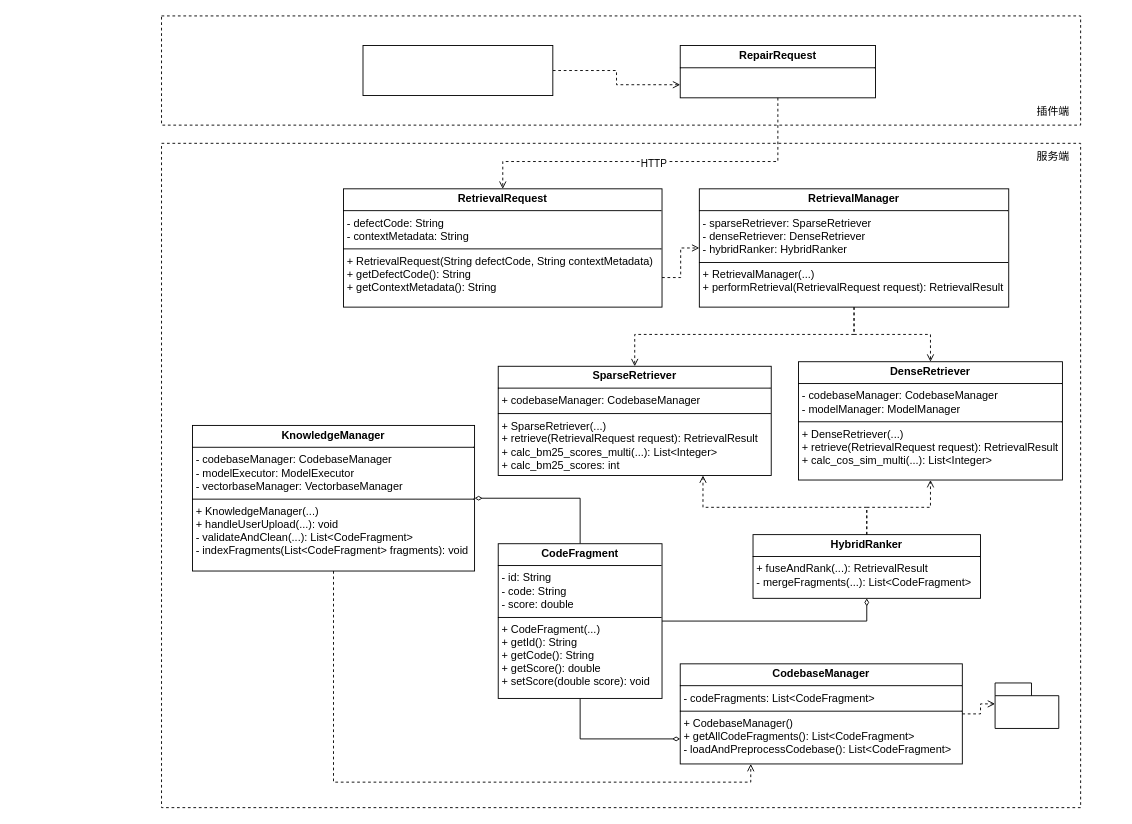
Image size: 1132x824. Some labels were removed from this diagram. Each missing label, with the centre of its shape:
CodeRepairInterface: the point at 457,70
utils: the point at 1026,705
